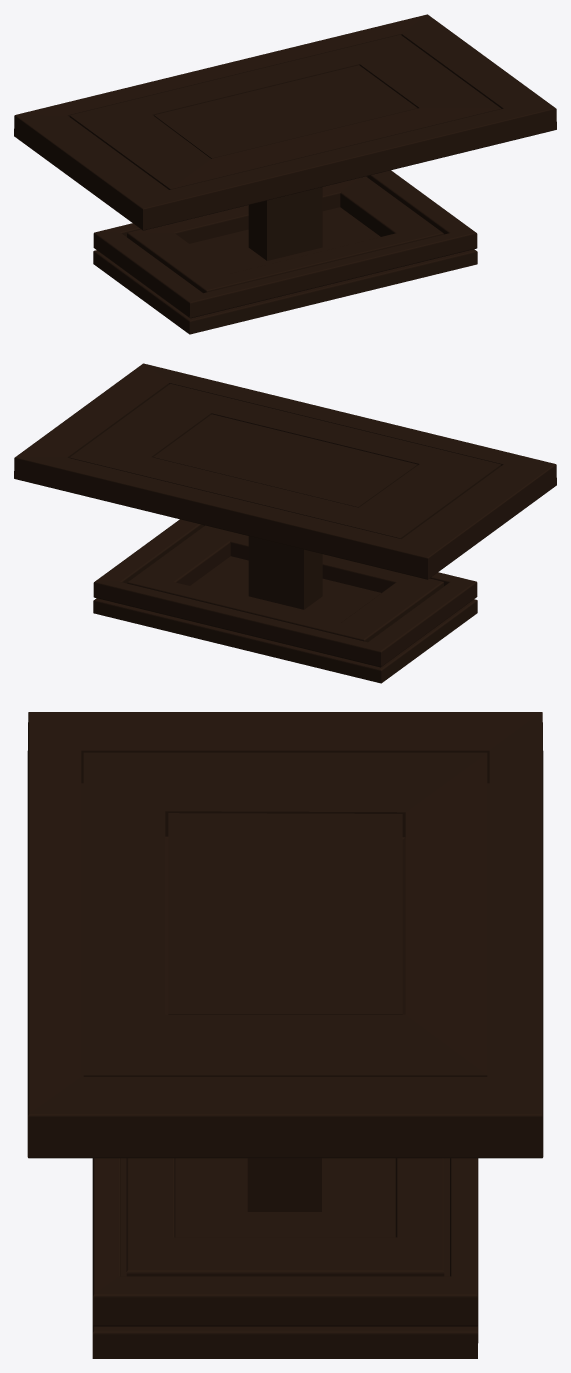
File: Mesas4.fbx
The picture shows the model from 3 angles, top to bottom: view 1: azimuth 30°, elevation 25°; view 2: azimuth 150°, elevation 25°; view 3: azimuth 270°, elevation 25°; orthographic projection. The views are drawn at different scales.
Visible parts, largest first — view 1: Cube.001; view 2: Cube.001; view 3: Cube.001.
Part boxes in pixels (x1,y1,x2,y2): Cube.001: [14, 14, 556, 334]; Cube.001: [14, 363, 556, 683]; Cube.001: [27, 712, 543, 1358].
Size of the model in its own units: 396 by 140 by 214.
